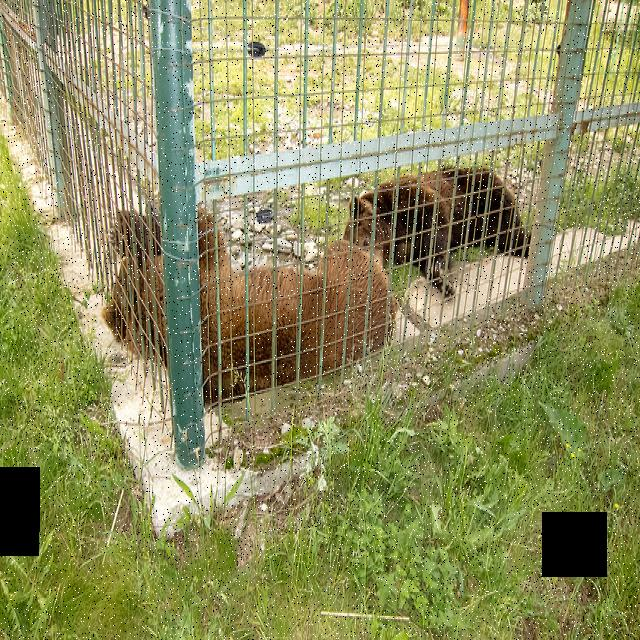Bear: (121, 190, 398, 379)
